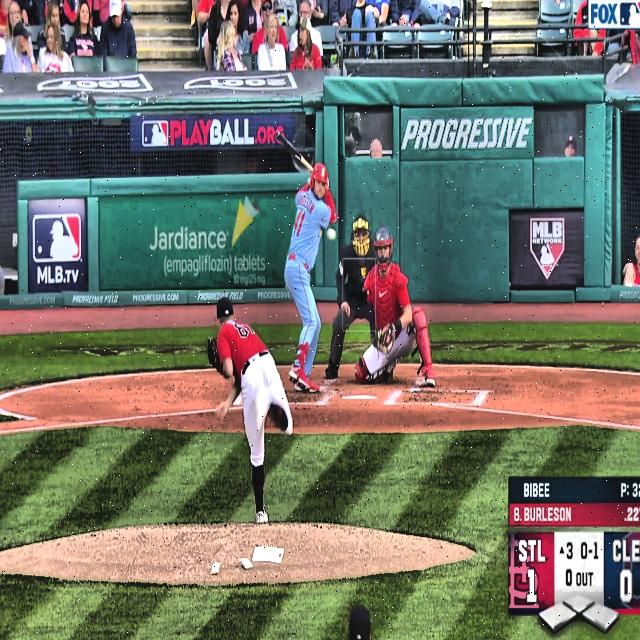baseball: (326, 228, 337, 242)
